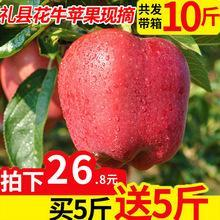apple: (58, 30, 194, 166)
